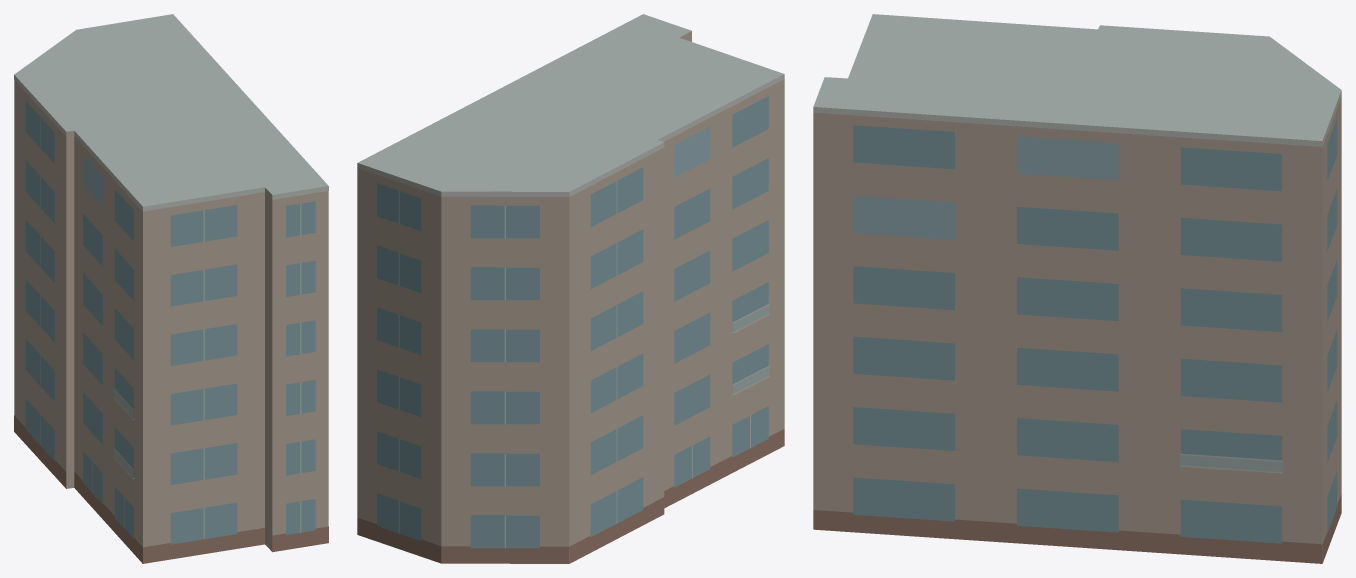
The model's file is survey-upis-33018416.glb.
3 renders of one model, left to right at view 1: azimuth 30°, elevation 25°; view 2: azimuth 150°, elevation 25°; view 3: azimuth 270°, elevation 25°, orthographic. The views are drawn at different scales.
Visible parts, largest first — view 1: survey-upis-33018416.tmp; view 2: survey-upis-33018416.tmp; view 3: survey-upis-33018416.tmp.
Part boxes in pixels (left/top/right/bottom): survey-upis-33018416.tmp: left=14, top=14, right=328, bottom=563; survey-upis-33018416.tmp: left=357, top=14, right=784, bottom=563; survey-upis-33018416.tmp: left=813, top=14, right=1341, bottom=563.
Size of the model in its own units: 11.49 by 17.8 by 20.17.
